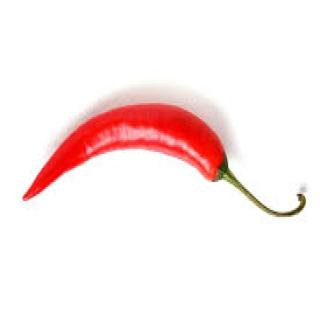Cabai Merah: (23, 104, 243, 202)
